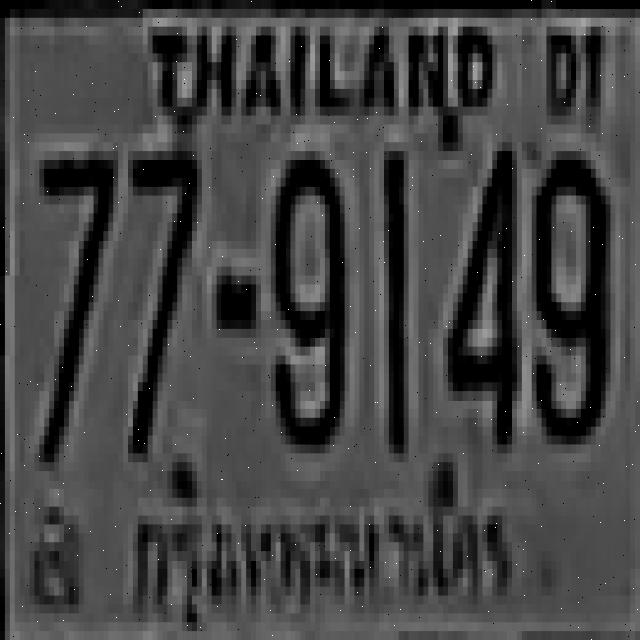1: (382, 147, 406, 449)
4: (443, 138, 517, 440)
7: (34, 146, 114, 458), (128, 142, 197, 454)
9: (526, 142, 606, 436), (270, 143, 344, 444)
Bangkok: (108, 480, 522, 640)
